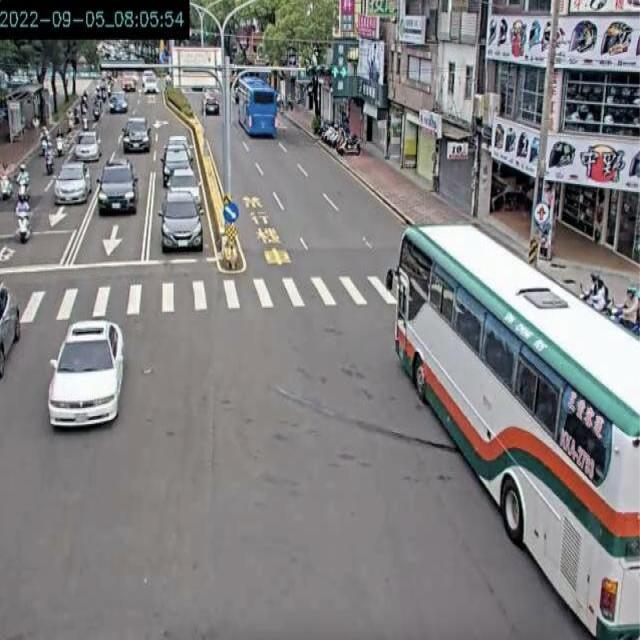Ad-signs: (0, 0, 190, 41)
Bus: (387, 222, 639, 639), (235, 75, 278, 137)
Car: (46, 318, 124, 430), (0, 279, 20, 380)
